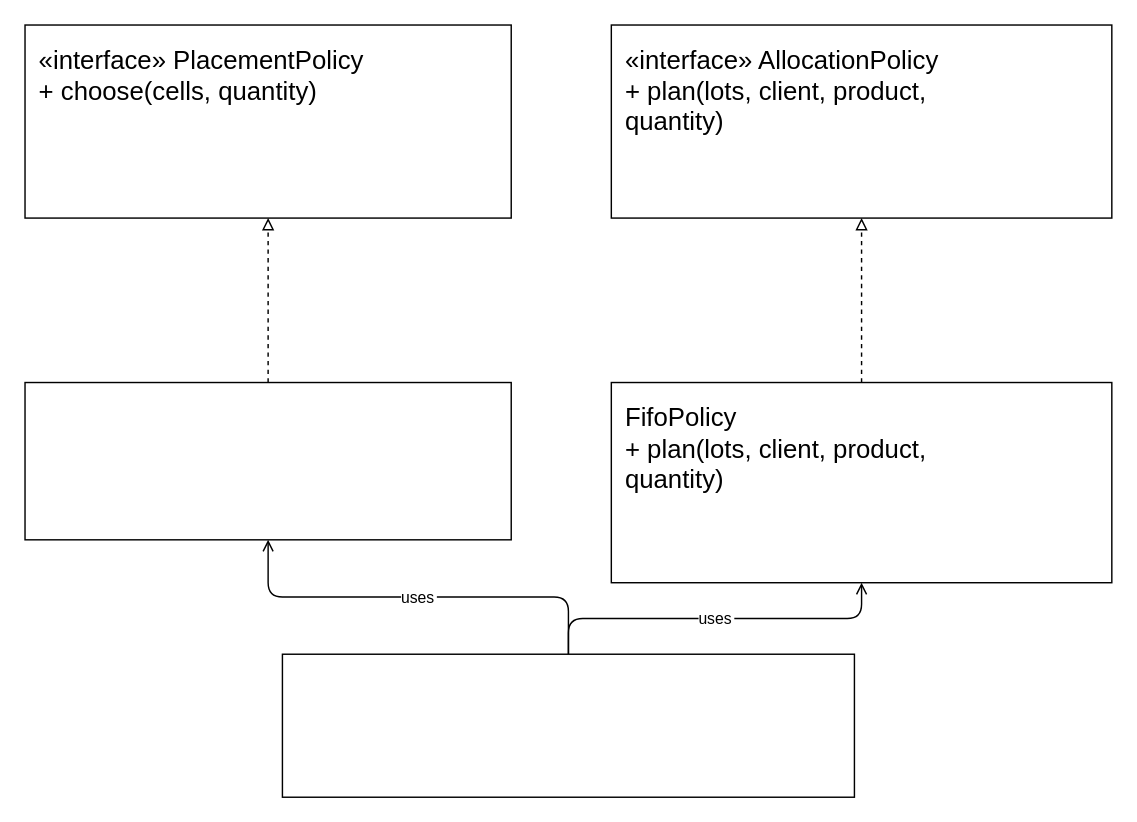
This 1137x822 diagram has some shape labels left out. Each missing label, with the box of its shape:
BestFitPolicy + choose(cells, quantity): (24, 381, 511, 540)
Warehouse - placement: PlacementPolicy - allocation: AllocationPolicy: (281, 653, 854, 797)
